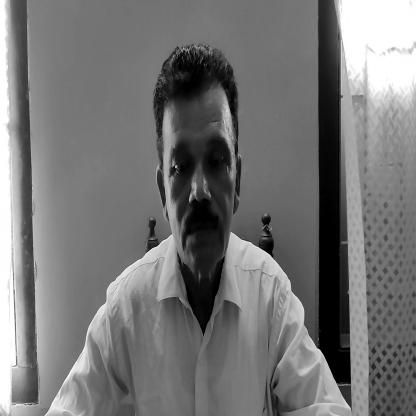Normal: (153, 51, 242, 278)
